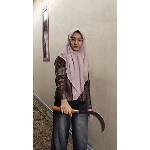Celurit: (51, 102, 107, 134)
